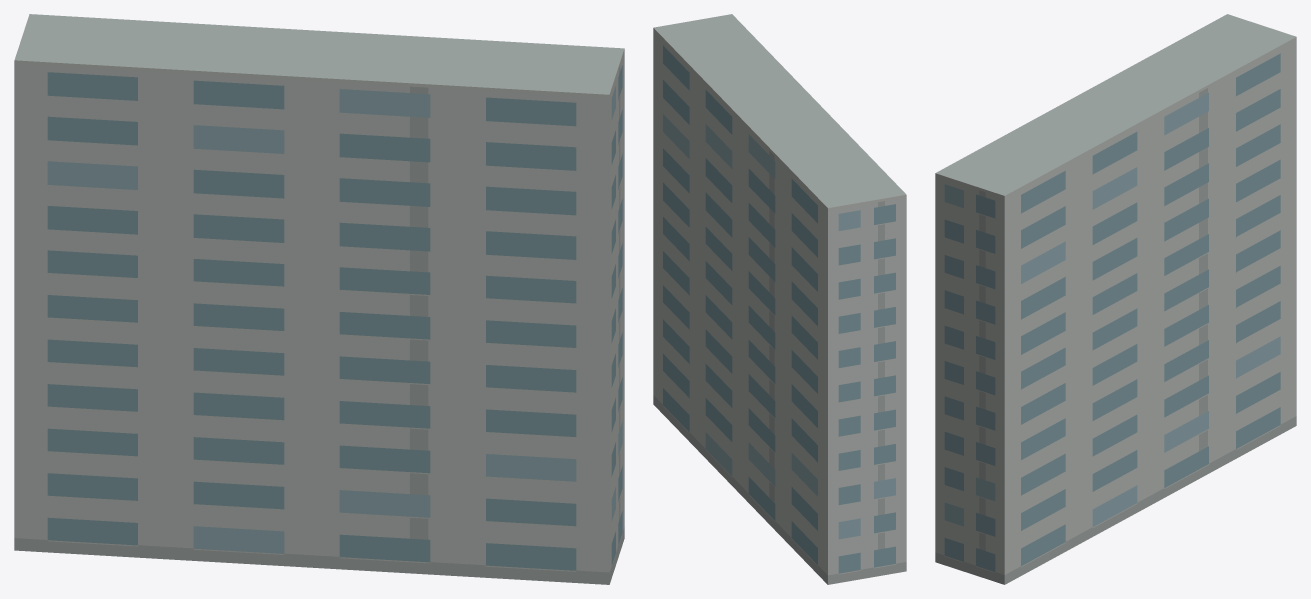
The model's file is residential-97a582ca-dec3-4acf-a87f-07ead23e59be.glb.
3 renders of one model, left to right at view 1: azimuth 30°, elevation 25°; view 2: azimuth 150°, elevation 25°; view 3: azimuth 270°, elevation 25°, orthographic. The views are drawn at different scales.
Parts seen in each view (by area): view 1: residential-97a582ca-dec3-4acf-a87f-07ead23e59be.tmp; view 2: residential-97a582ca-dec3-4acf-a87f-07ead23e59be.tmp; view 3: residential-97a582ca-dec3-4acf-a87f-07ead23e59be.tmp.
Part boxes in pixels (<box>): residential-97a582ca-dec3-4acf-a87f-07ead23e59be.tmp: <box>14,14,624,584</box>; residential-97a582ca-dec3-4acf-a87f-07ead23e59be.tmp: <box>653,14,906,584</box>; residential-97a582ca-dec3-4acf-a87f-07ead23e59be.tmp: <box>935,14,1296,584</box>.
Bounding box in the file's own units: 35.12 × 35 × 29.49.
